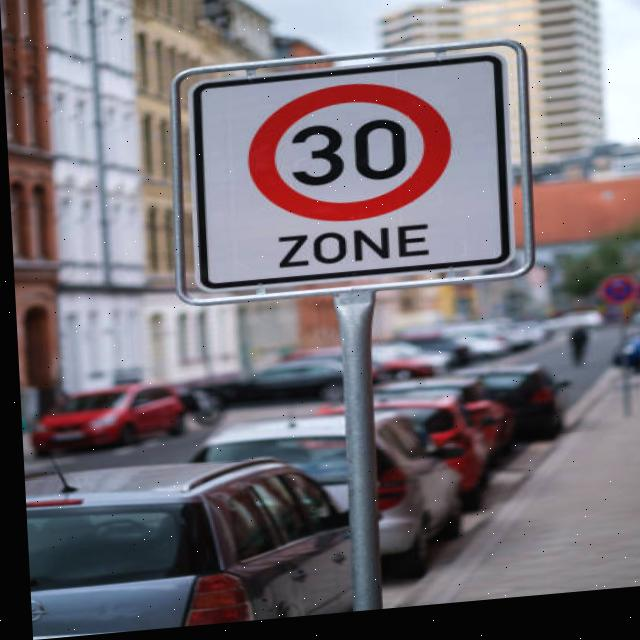Speed limit 30: (232, 80, 474, 238)
